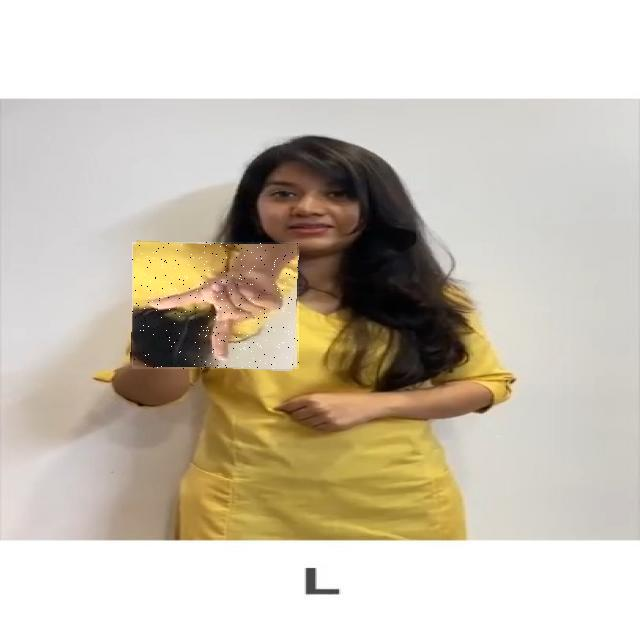L: (132, 242, 299, 369)
